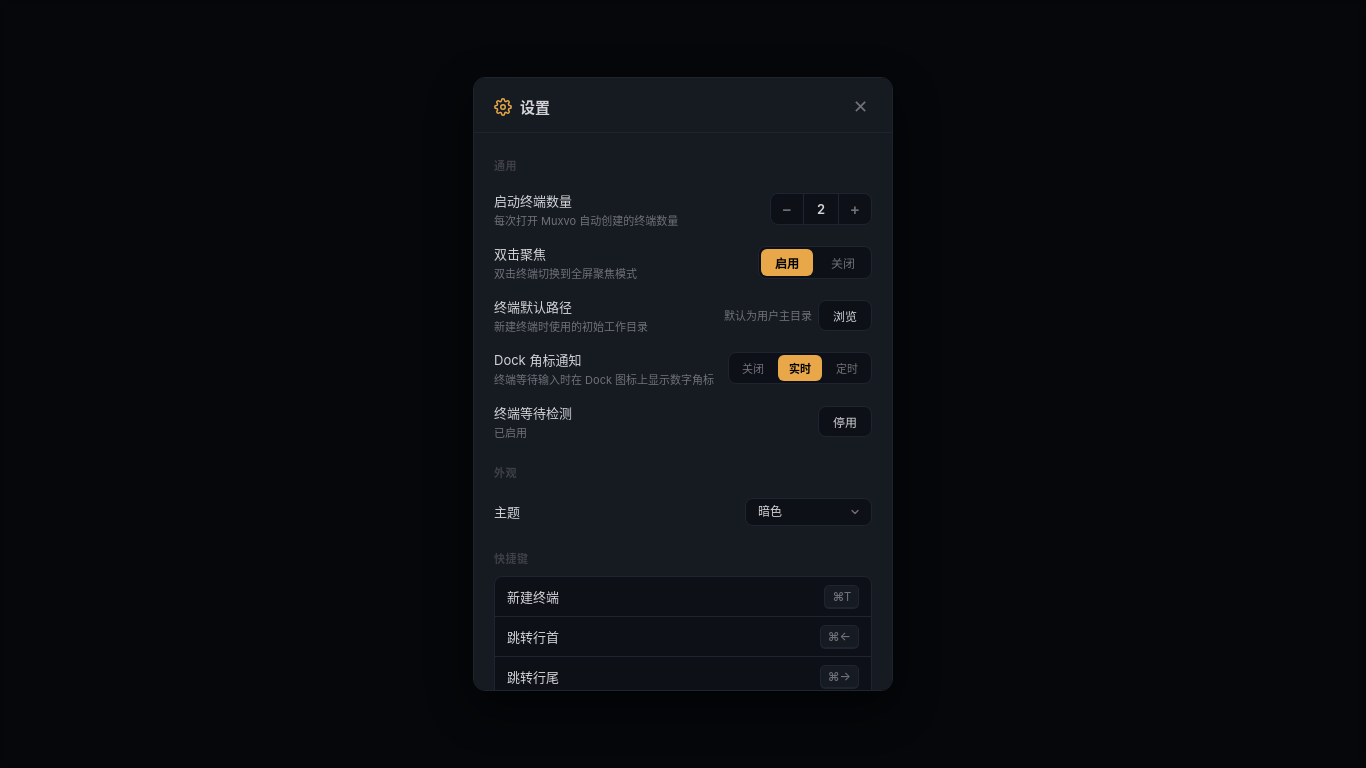
it: 终端等待检测行（wait-detector.md §7 单绑定入口 + §7 用户面归一） › WD_panel_disable_delegate：installed 点「停用」→ 委托 {kind:hookDisable}；响应 notInstalled → 行回「启用」
Click the button with class "settings-modal__hook-btn" at (845, 421), box x1=818 y1=406 x2=872 y2=437
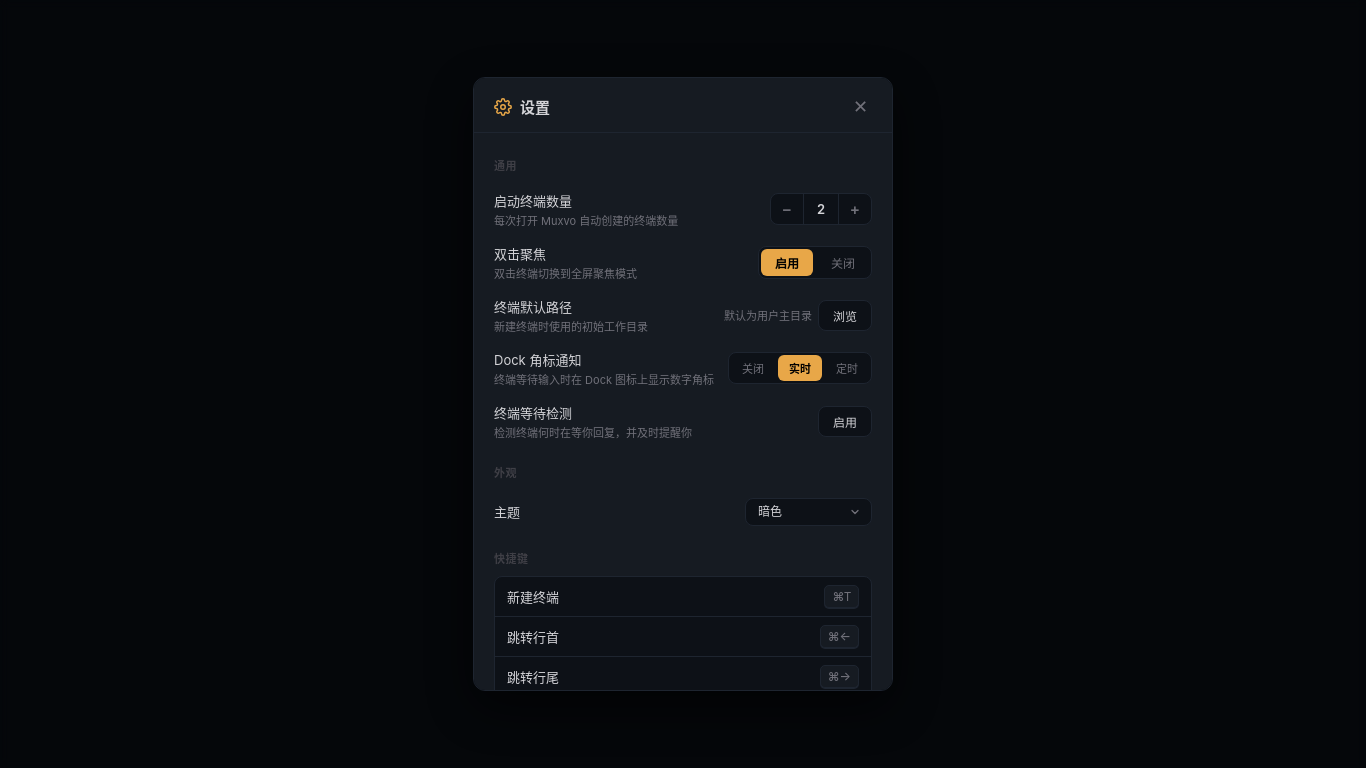
Expected: the button with class "settings-modal__hook-btn" reads "启用", x1=818 y1=406 x2=872 y2=437
